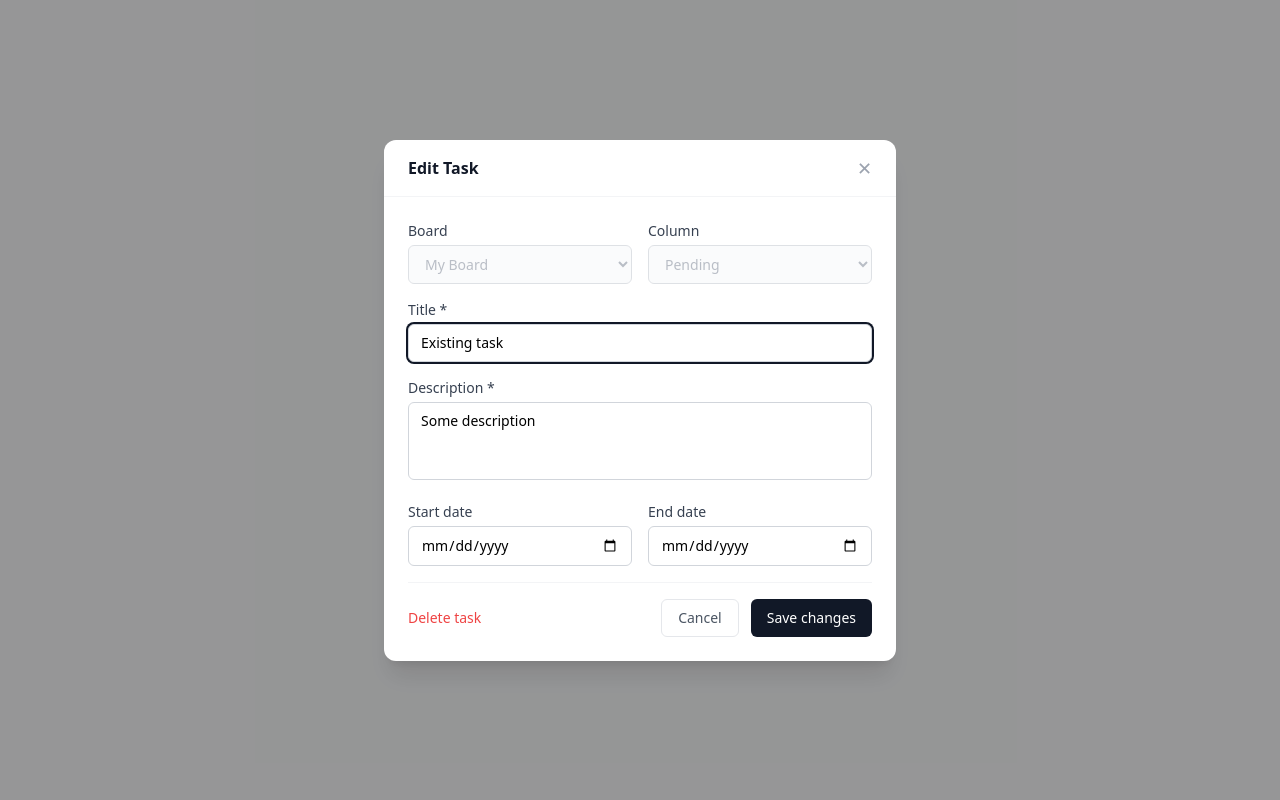
Test: TaskModal — edit mode (US-03 / US-04) › shows confirmation step before deleting (US-04)
Click the button "Delete task" at (445,618), box [408,608,481,628]
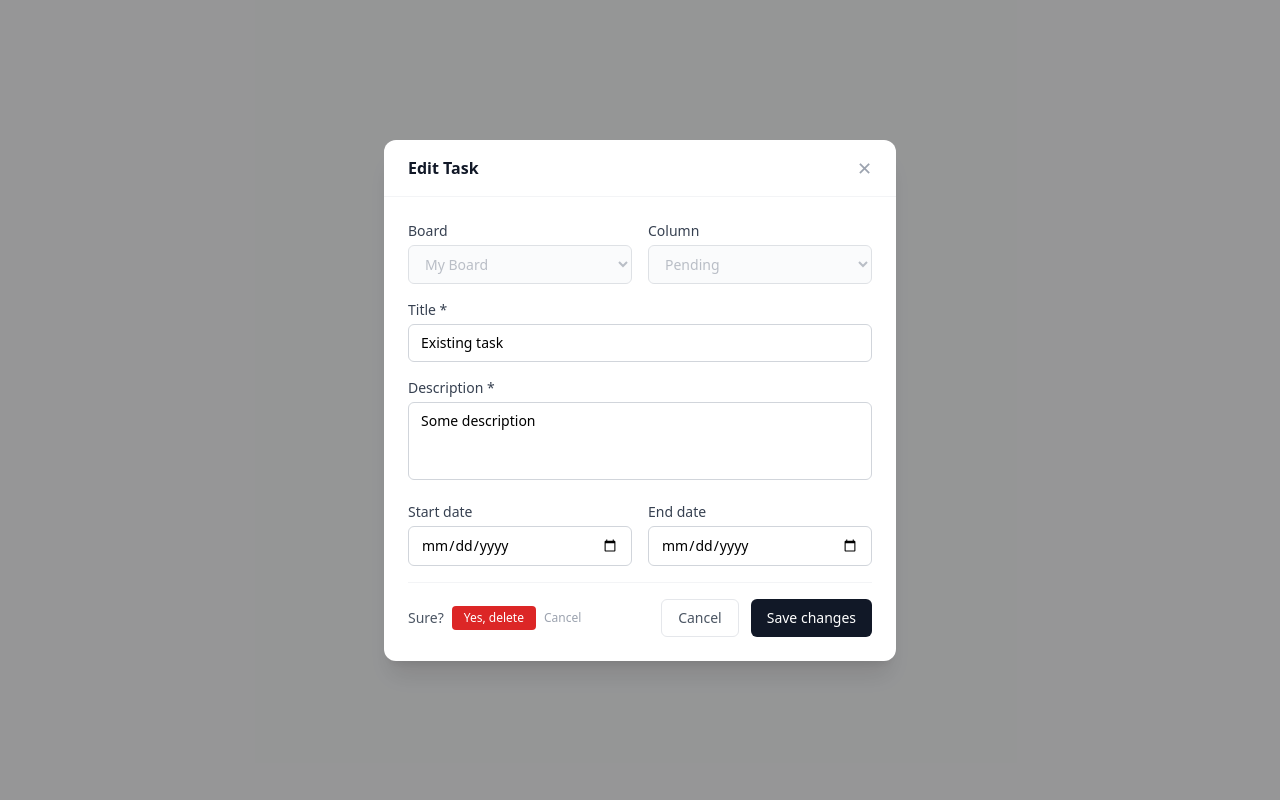
Expected: the text "Sure?" is shown, [408,608,444,628]
Expected: the button "Yes, delete" is shown, [452,606,536,630]
